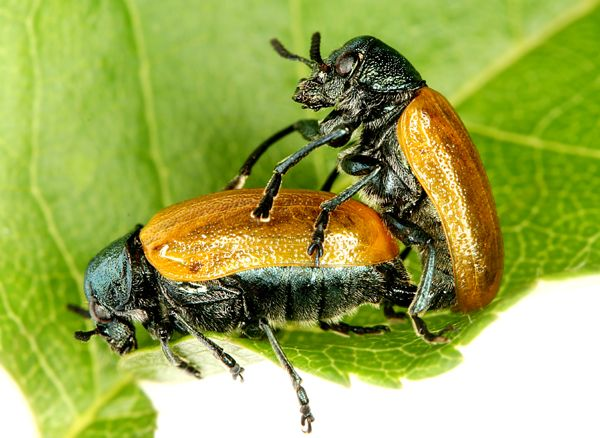Labidostomis_longimana: (56, 183, 463, 435), (226, 23, 514, 321)
